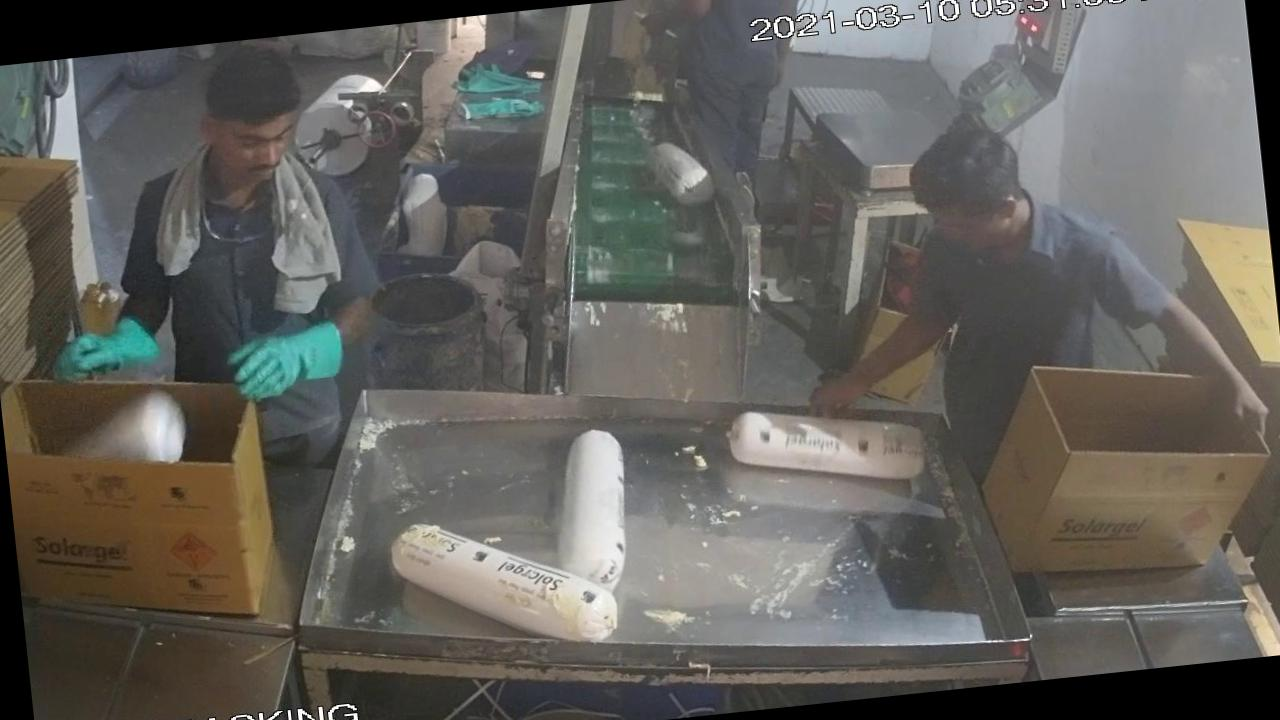Gloves: (222, 306, 360, 408), (40, 301, 166, 397)
No-gloves: (762, 271, 986, 444), (1124, 257, 1280, 457)
